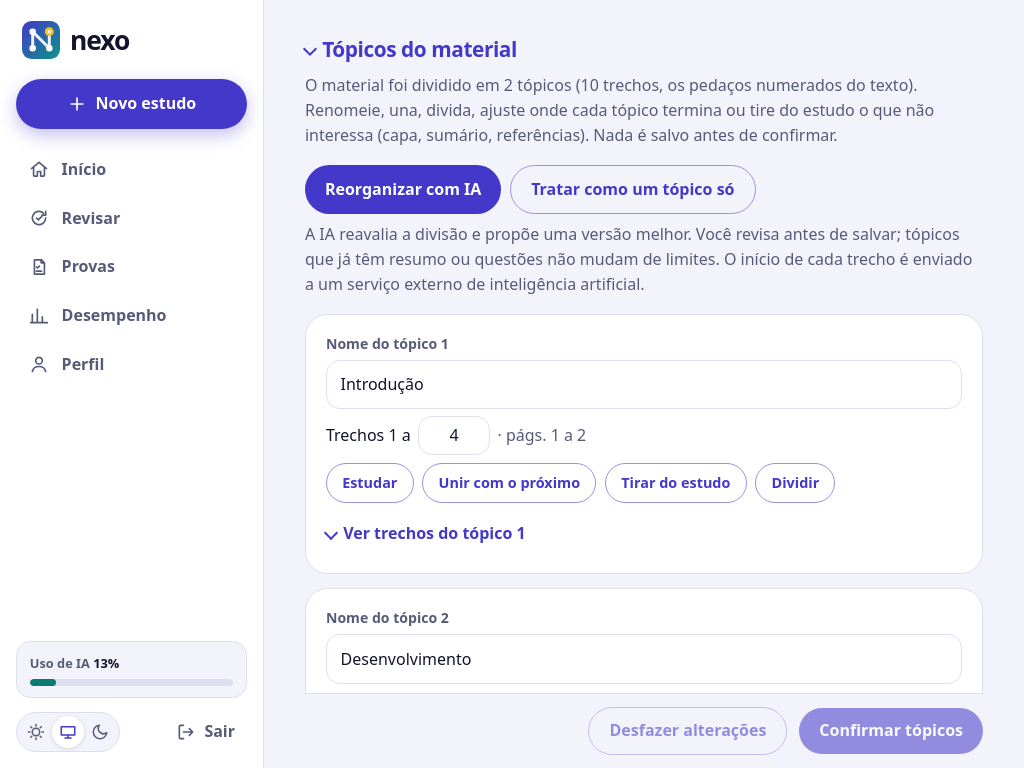
revisão: renomear, ajustar limite e confirmar manda a lista completa de uma vez
(page scrolled)
Expected: the button "Confirmar tópicos" is disabled, [799, 708, 983, 754]
Step 1. Replace the text in the field labelled "Nome do tópico 1" with "Conceitos" → (644, 385), box [326, 360, 962, 409]
(page scrolled)
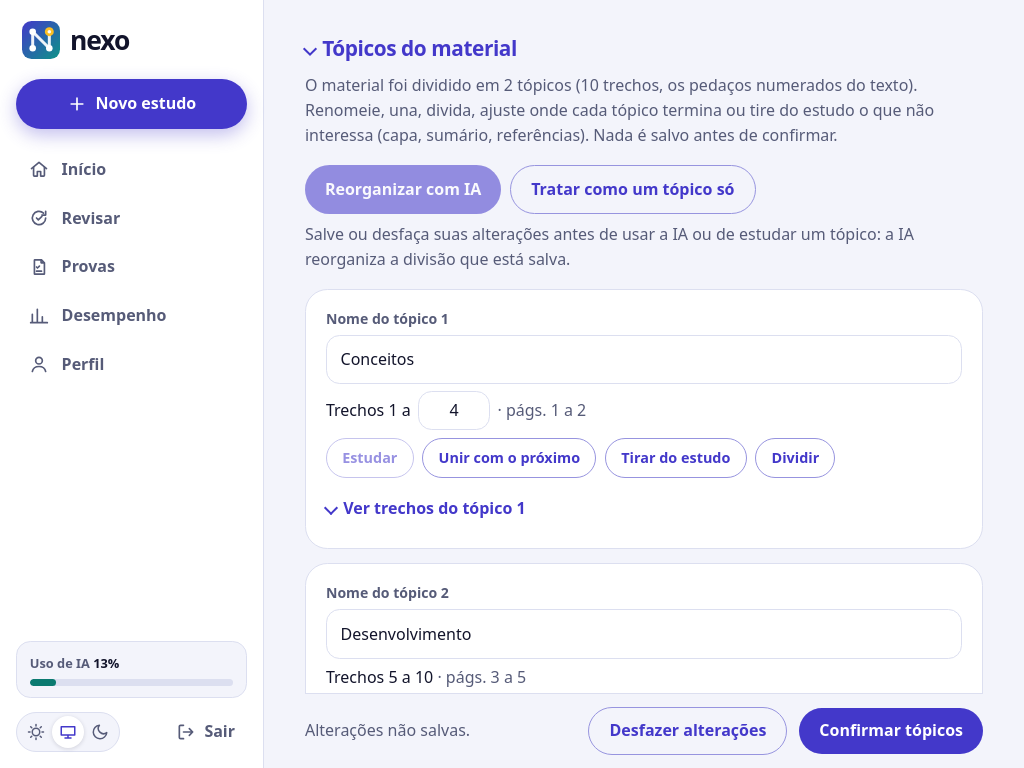
Step 2. Replace the text in the field named "Último trecho do tópico 1" with "6" → (454, 410), box [418, 391, 490, 430]
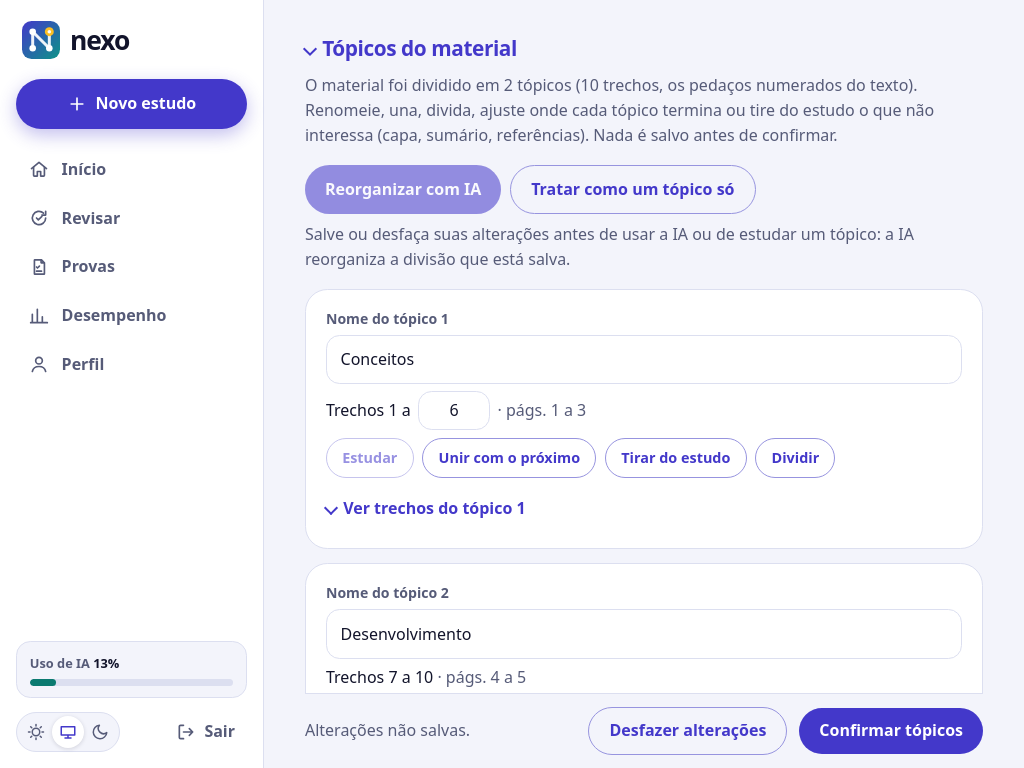
Result: the text "Trechos 7 a 10" is shown at [326, 666, 526, 688]
Step 3. Click the button "Confirmar tópicos" → (891, 731), box [799, 708, 983, 754]
(page scrolled)
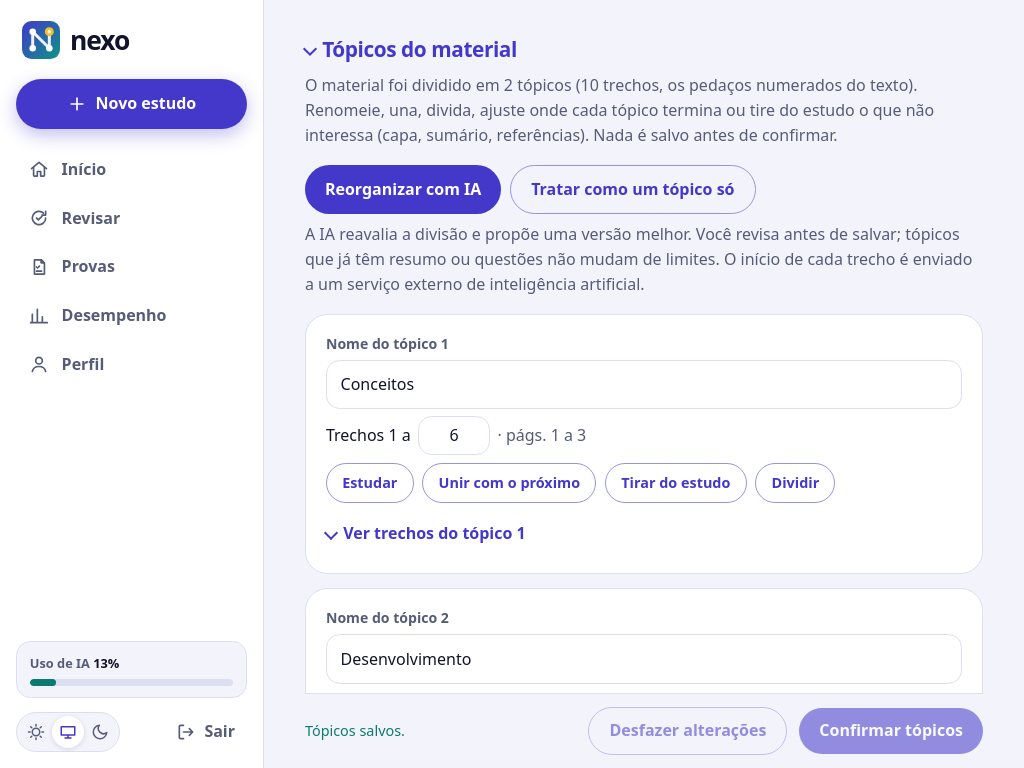
Result: the message reads "Tópicos salvos." at [305, 721, 405, 740]
